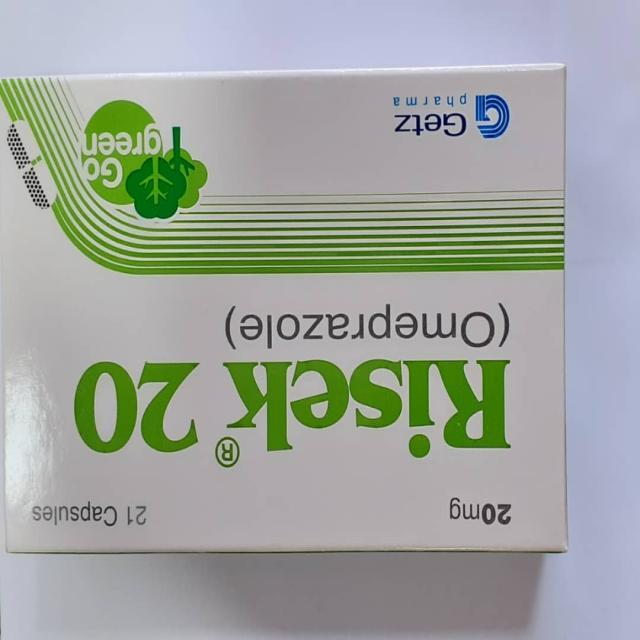drug-name: (72, 357, 515, 466)
